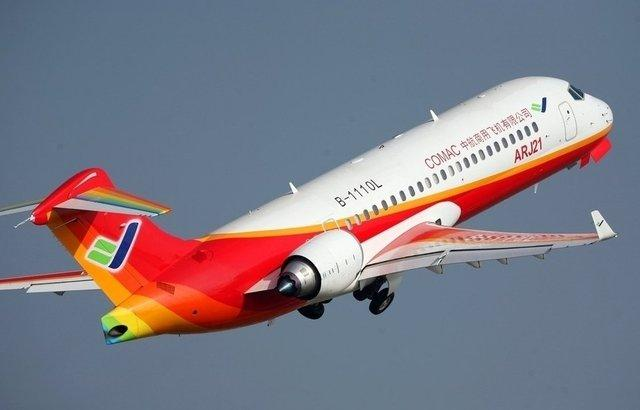airplane: (4, 75, 629, 350)
